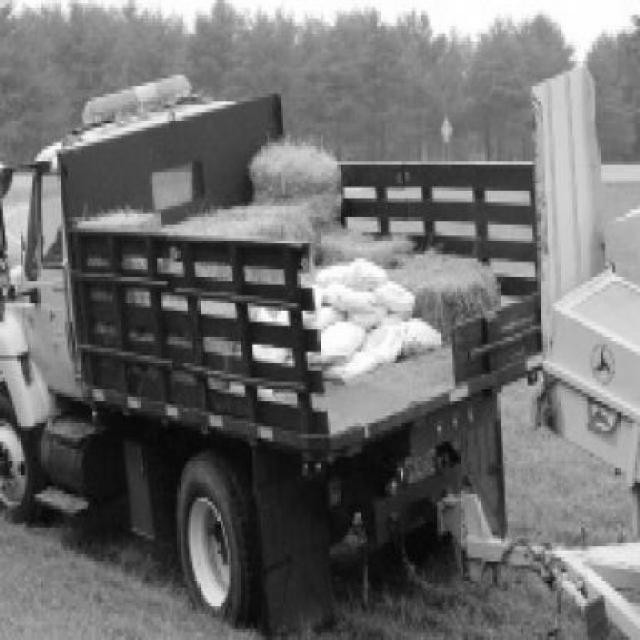Box Truck: (0, 76, 543, 635)
